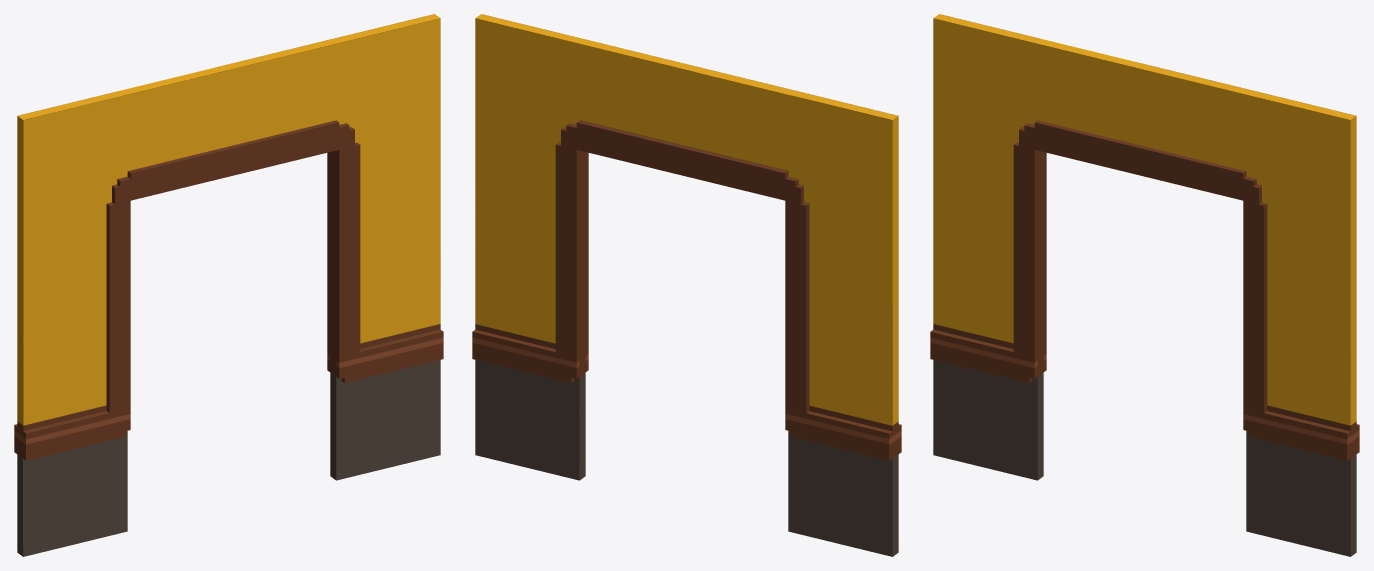
File: IKEA_Doorway.fbx
3 renders of one model, left to right at view 1: azimuth 30°, elevation 25°; view 2: azimuth 150°, elevation 25°; view 3: azimuth 330°, elevation 25°, orthographic.
Parts seen in each view (by area): view 1: IKEA_Doorway; view 2: IKEA_Doorway; view 3: IKEA_Doorway.
Boxes of the visible parts, <box> form: IKEA_Doorway: <box>14,14,443,556</box>; IKEA_Doorway: <box>472,14,901,556</box>; IKEA_Doorway: <box>930,14,1359,556</box>.
Size of the model in its own units: 800 by 800 by 40.
